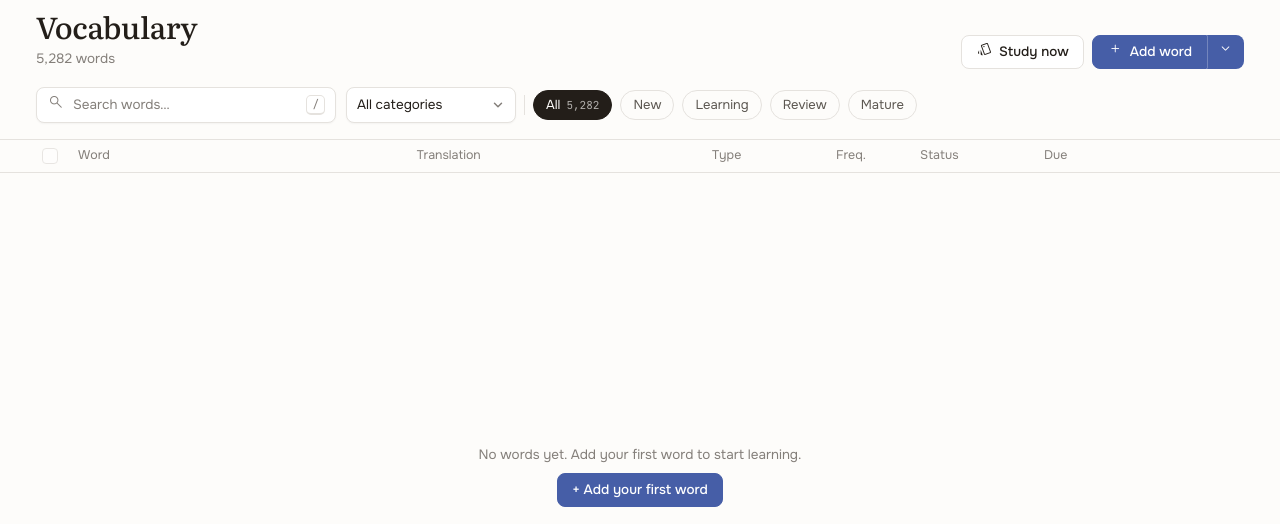
it: VocabularyPage — loading states › distinguishes "nothing matches the search" from an empty library and can clear filters
Expected: the text "No words yet. Add your first word to start learning." is shown, [478,445,801,465]
Type "zzz" into the search field named "Search vocabulary" at point(186, 105), box [73,88,298,122]
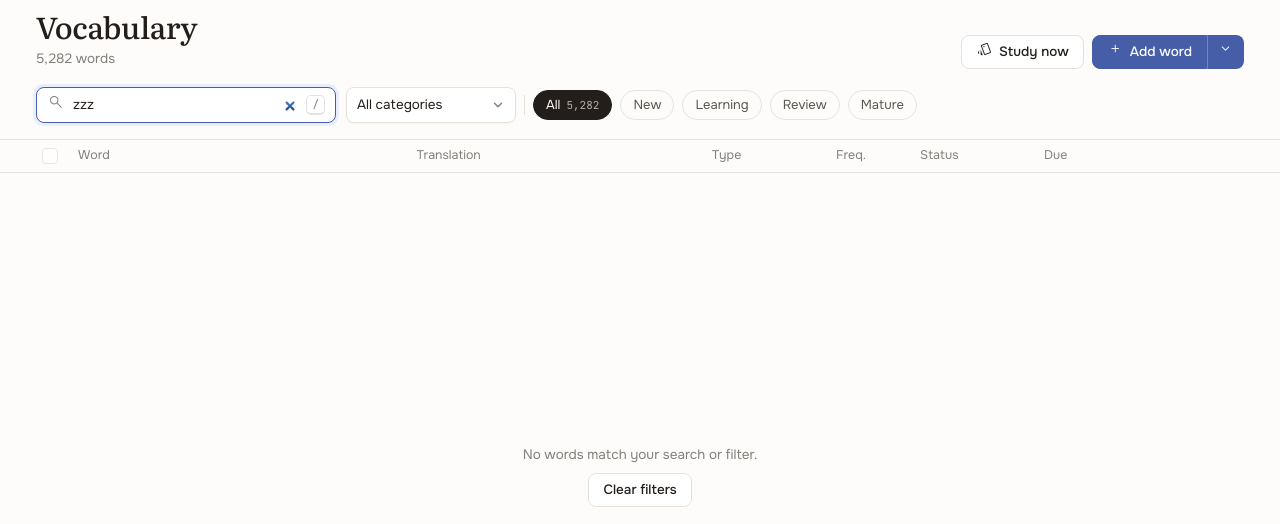
Now the text "No words match your search or filter." is shown, box [523,445,757,465]
Now the text "No words yet" is gone
Click the button "Clear filters" at point(640, 490), box [588,473,692,507]
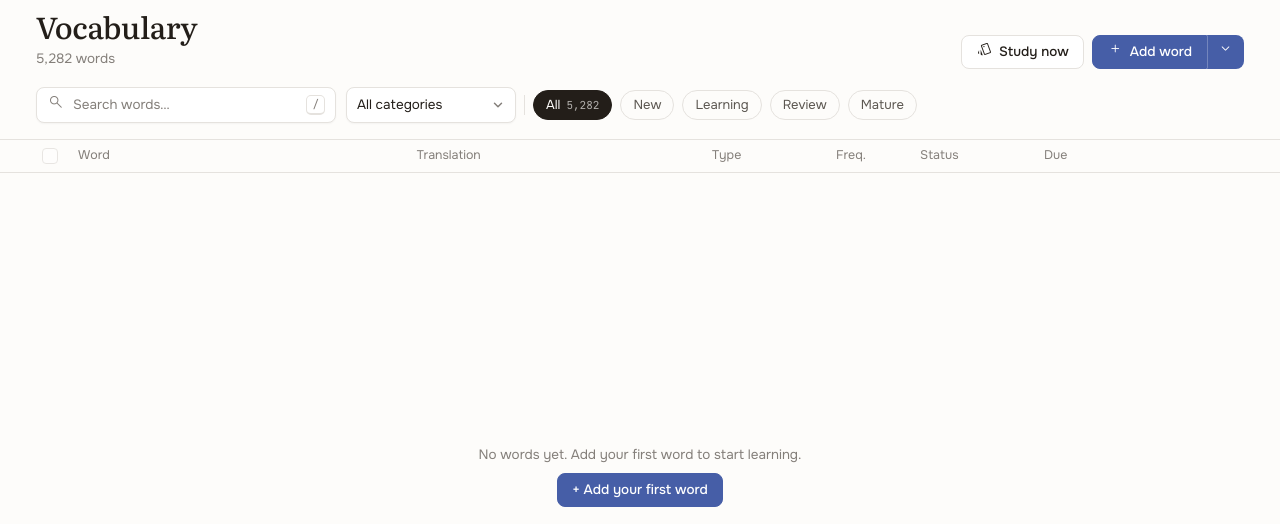
Now the text "No words yet. Add your first word to start learning." is shown, box [478,445,801,465]
Now the search field named "Search vocabulary" is empty, box [73,88,298,122]
